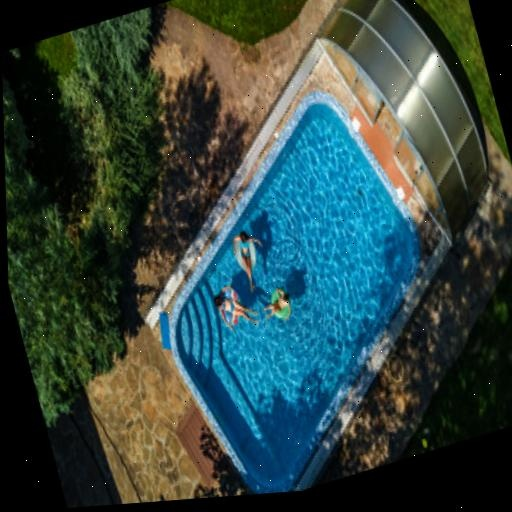tree-top: (7, 219, 122, 417), (63, 90, 175, 236), (71, 6, 169, 105), (5, 152, 60, 266), (1, 48, 37, 156)
